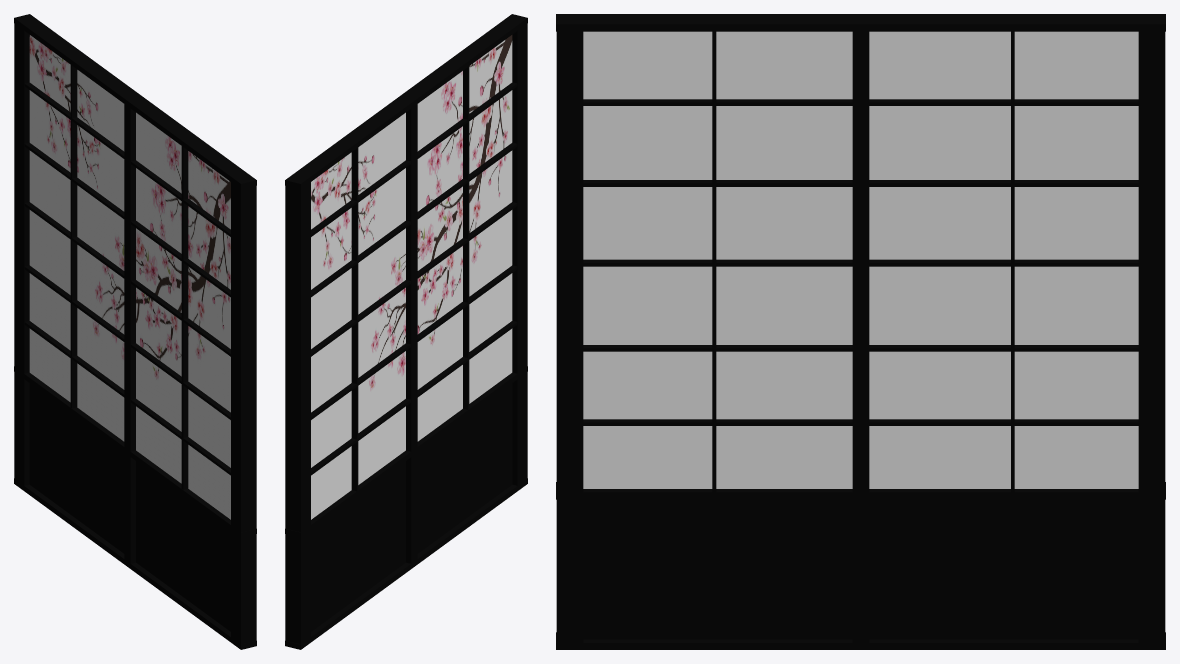
Rendered from Sliding Door 2.fbx.
The picture shows the model from 3 angles, left to right: view 1: azimuth 30°, elevation 25°; view 2: azimuth 150°, elevation 25°; view 3: azimuth 270°, elevation 25°; orthographic projection. The views are drawn at different scales.
Visible parts, largest first — view 1: pCube21, pCube62, pCube60, pCube61, pCube59, pCube24, pCube58, pCube49, pCube22, pCube23, pCube54, pCube52 (+8 smaller); view 2: pCube21, pCube62, pCube61, pCube60, pCube59, pCube24, pCube49, pCube22, pCube23, pCube58, pCube57, pCube55 (+8 smaller); view 3: pCube21, pCube62, pCube61, pCube60, pCube59, pCube24, pCube22, pCube23, pCube58, pCube52, pCube57, pCube53 (+8 smaller).
Boxes of the visible parts, left/top/right/bottom form: pCube21: left=29, top=35, right=230, bottom=519; pCube62: left=29, top=383, right=230, bottom=631; pCube60: left=231, top=180, right=256, bottom=644; pCube61: left=14, top=21, right=29, bottom=485; pCube59: left=124, top=100, right=135, bottom=563; pCube24: left=14, top=14, right=256, bottom=189; pCube58: left=181, top=146, right=188, bottom=489; pCube49: left=70, top=65, right=77, bottom=408; pCube22: left=14, top=478, right=256, bottom=649; pCube23: left=14, top=366, right=256, bottom=537; pCube54: left=24, top=321, right=124, bottom=397; pCube52: left=24, top=202, right=124, bottom=278; pCube21: left=311, top=35, right=512, bottom=519; pCube62: left=311, top=383, right=512, bottom=631; pCube61: left=285, top=179, right=310, bottom=644; pCube60: left=512, top=21, right=527, bottom=485; pCube59: left=406, top=102, right=417, bottom=563; pCube24: left=285, top=14, right=527, bottom=189; pCube49: left=351, top=147, right=358, bottom=491; pCube22: left=285, top=478, right=527, bottom=649; pCube23: left=285, top=366, right=527, bottom=537; pCube58: left=463, top=66, right=469, bottom=409; pCube57: left=417, top=202, right=517, bottom=278; pCube55: left=417, top=321, right=517, bottom=397; pCube21: left=583, top=31, right=1138, bottom=488; pCube62: left=583, top=499, right=1138, bottom=639; pCube61: left=1138, top=27, right=1165, bottom=643; pCube60: left=556, top=27, right=583, bottom=643; pCube59: left=852, top=27, right=869, bottom=643; pCube24: left=556, top=14, right=1165, bottom=31; pCube22: left=556, top=632, right=1165, bottom=649; pCube23: left=556, top=482, right=1165, bottom=499; pCube58: left=712, top=31, right=716, bottom=492; pCube52: left=869, top=259, right=1138, bottom=266; pCube57: left=583, top=259, right=852, bottom=266; pCube53: left=869, top=345, right=1138, bottom=351.
Size of the model in its own units: 3.13 by 87.9 by 77.64.
2 materials, 1 textured.
